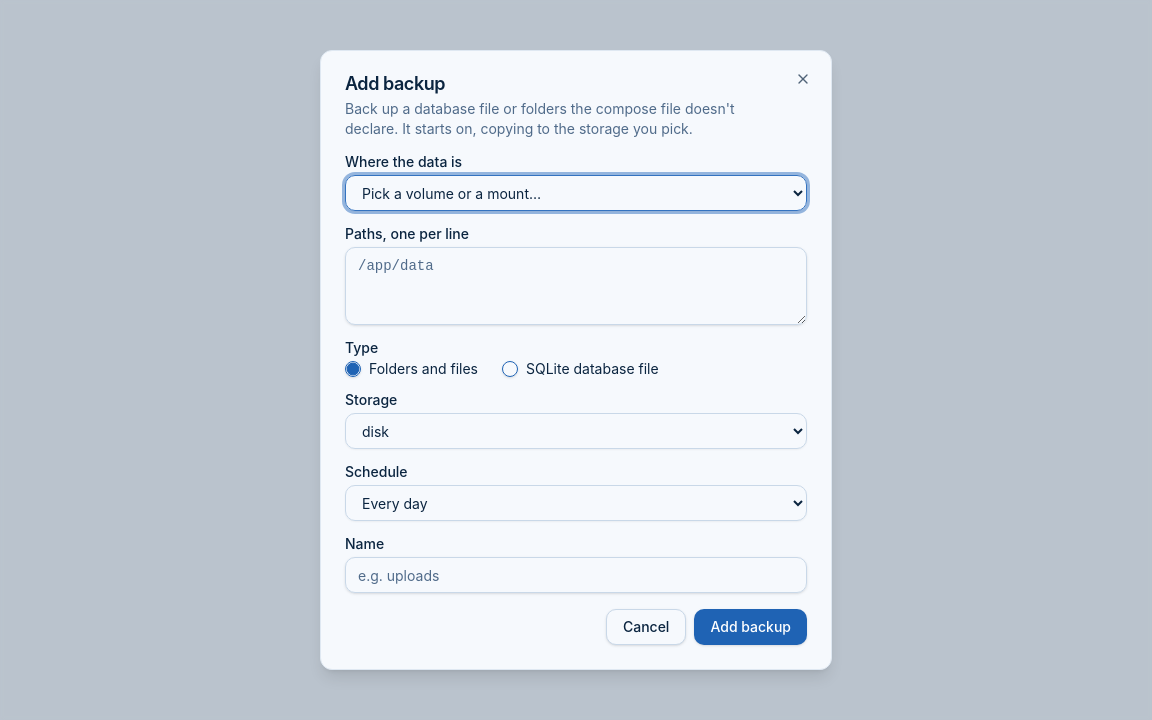
AddBackupDialog › says what is missing once the user tries
Expected: the dropdown labelled "Storage" is shown, [345,413,807,449]
Type "database" into the field labelled "Name" at (576, 575), box [345,557,807,593]
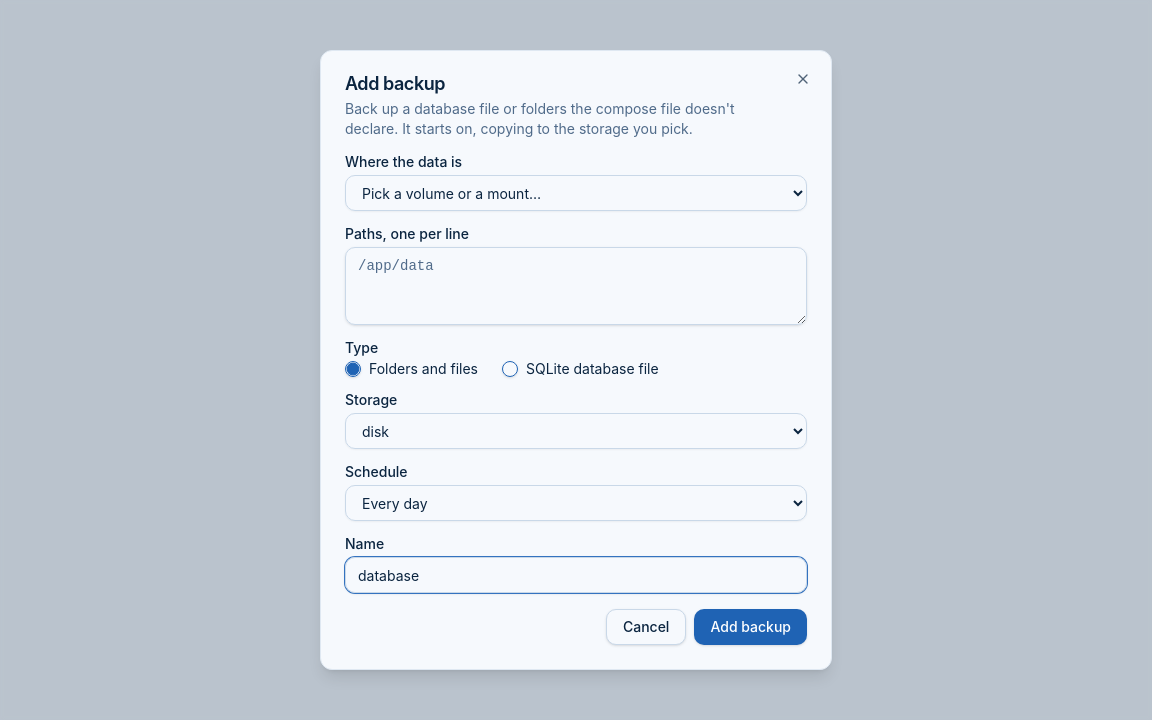
Click the button "Add backup" at (751, 627), box [694,609,807,645]
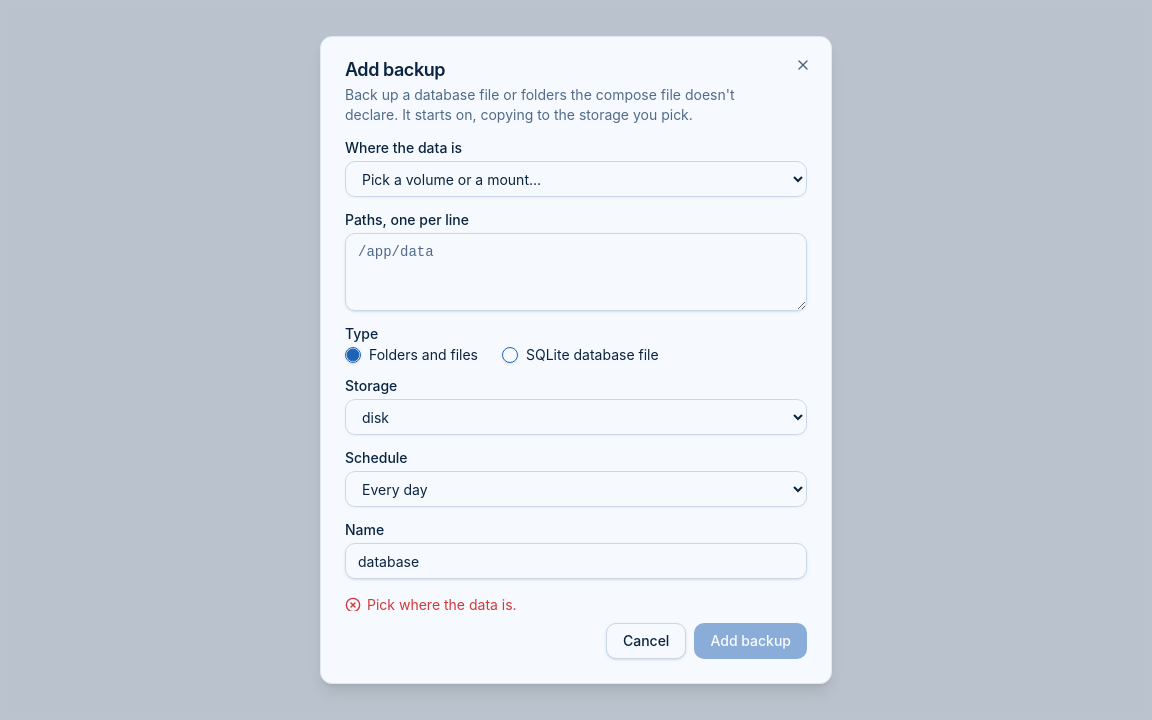
Expected: the message reads "Pick where the data is.", [367,596,517,611]
Expected: the button "Add backup" is disabled, [694,623,807,659]
Select "Volume data" in the dropdown labelled "Where the data is" at (576, 179), box [345,161,807,197]
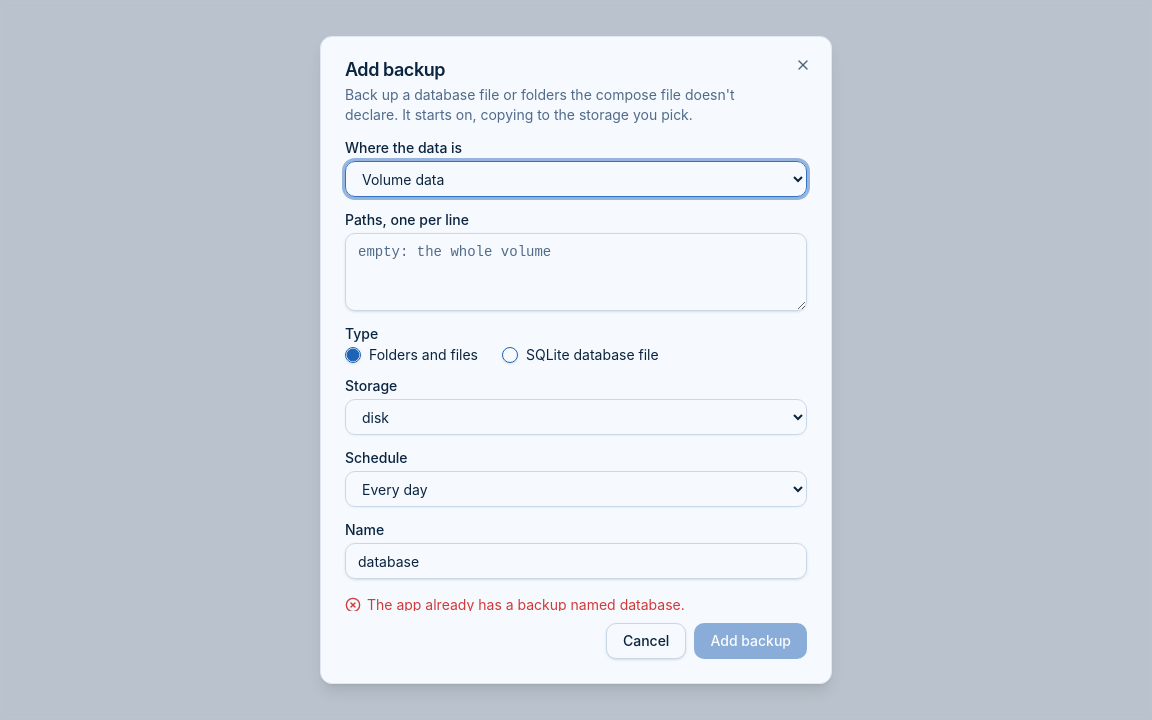
Expected: the message reads "The app already has a backup named database.", [367,596,685,611]
Replace the text in the field labelled "Name" with "db2" at (576, 561), box [345,543,807,579]
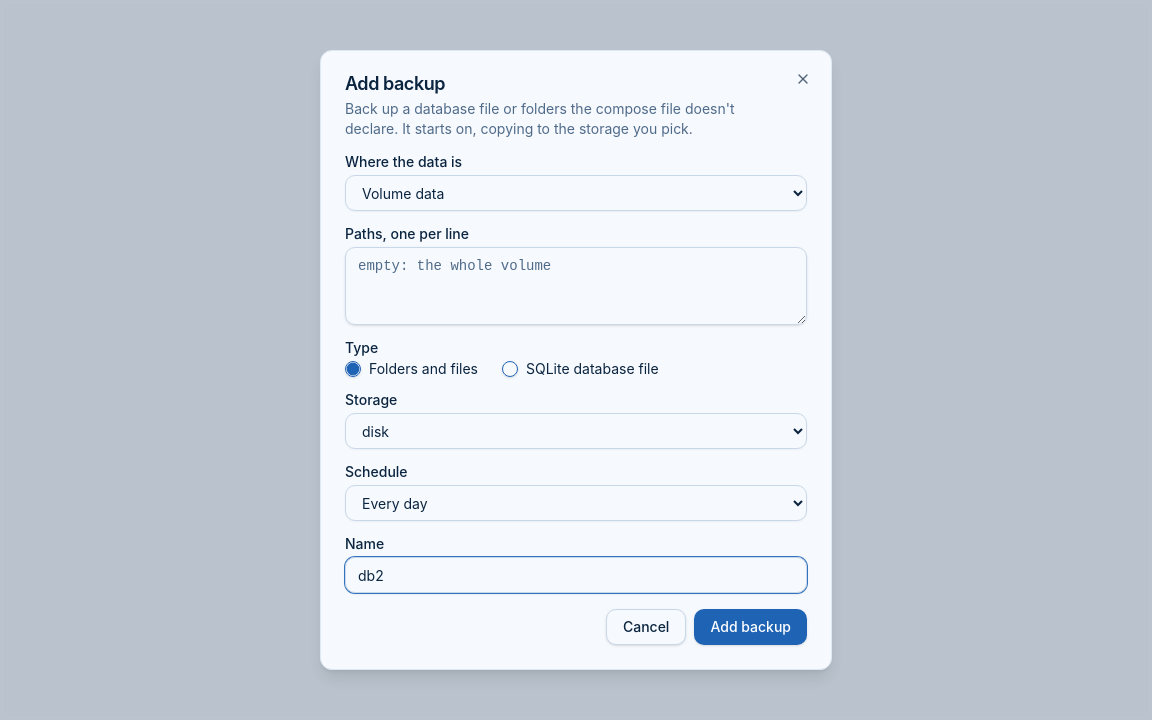
Expected: the message "Use 1-32 lowercase letters, digits and inner hyphens, like database." is gone
